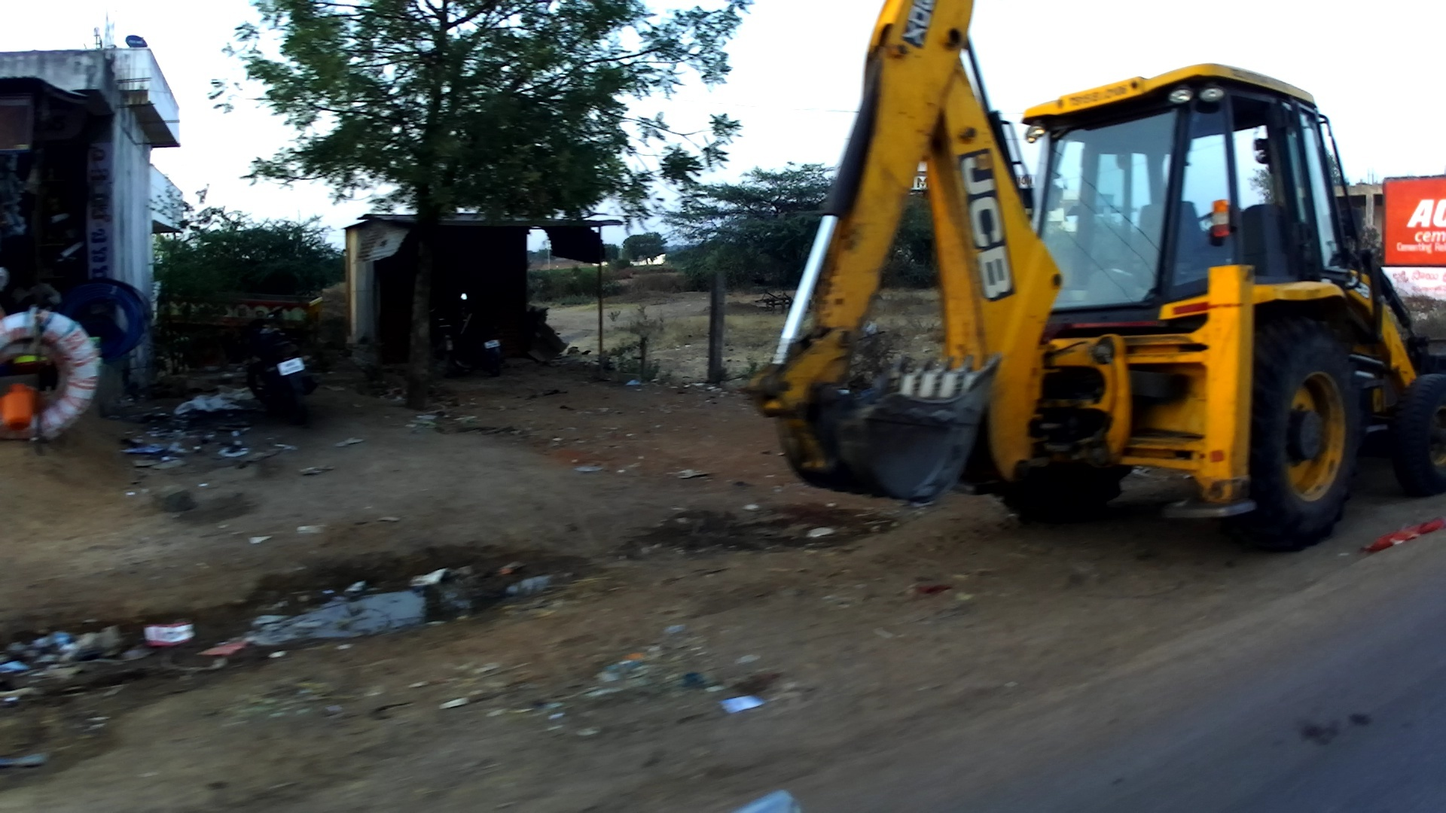bicycle: (429, 311, 463, 381)
motorcycle: (242, 306, 327, 434), (455, 291, 506, 379)
vehicle fallback: (737, 1, 1446, 553)
